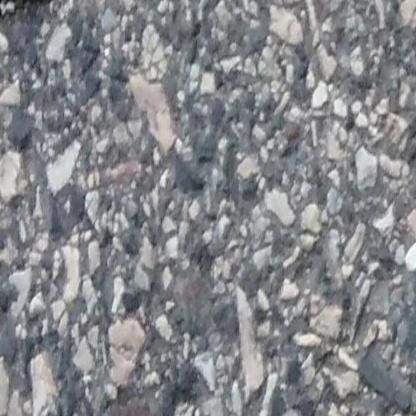Cracks: (0, 0, 80, 36)
